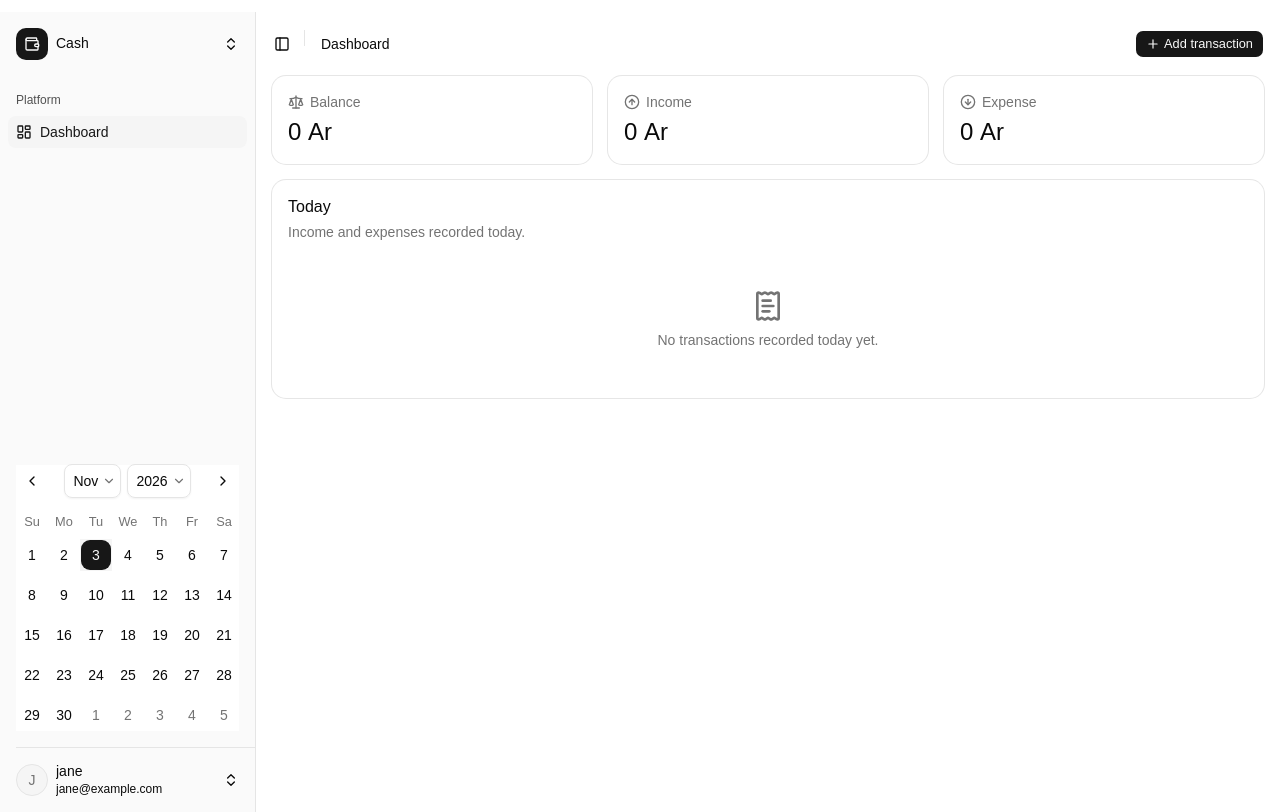
AccountSwitcher › shows the active account and lists all accounts
Click the button "Cash" at x=128, y=44, box 8,20 -> 247,68
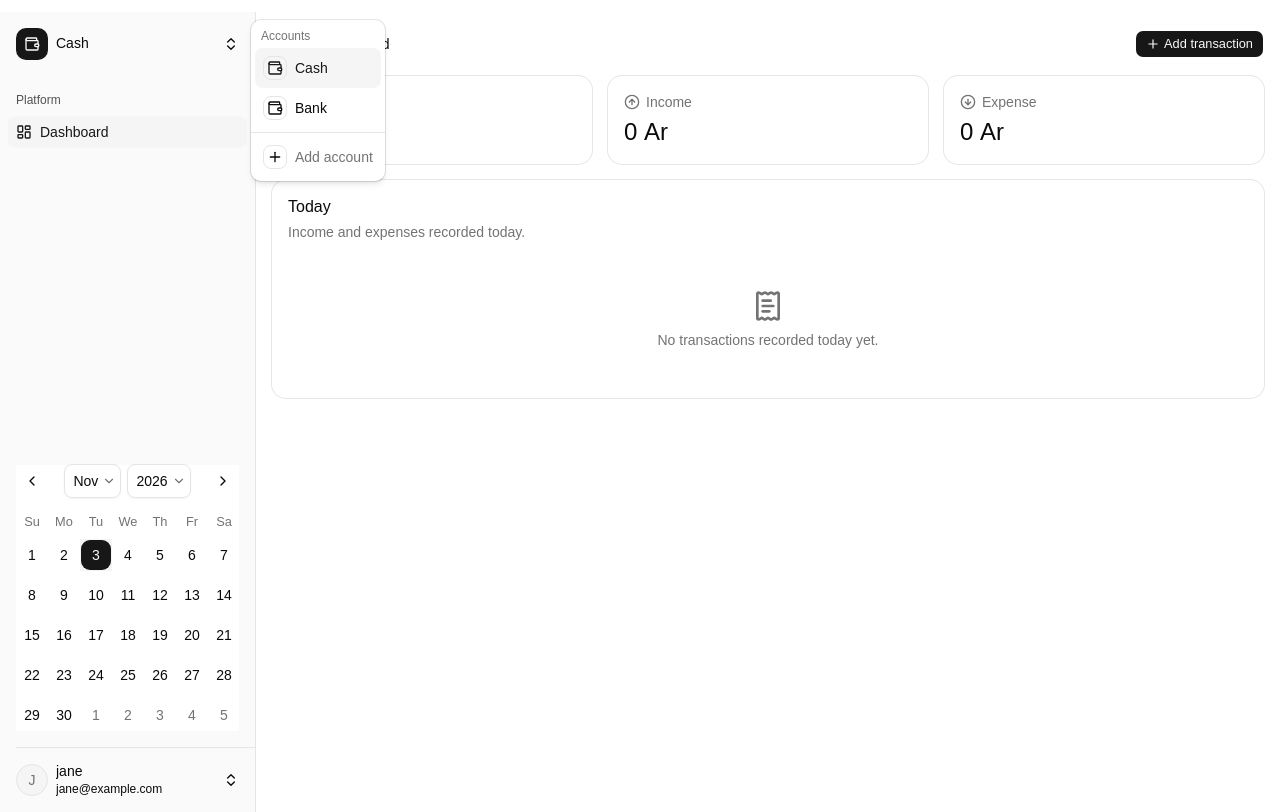
expect the menu item "Cash" is shown: met, box 255,48 -> 381,88
expect the menu item "Bank" is shown: met, box 263,96 -> 327,120
